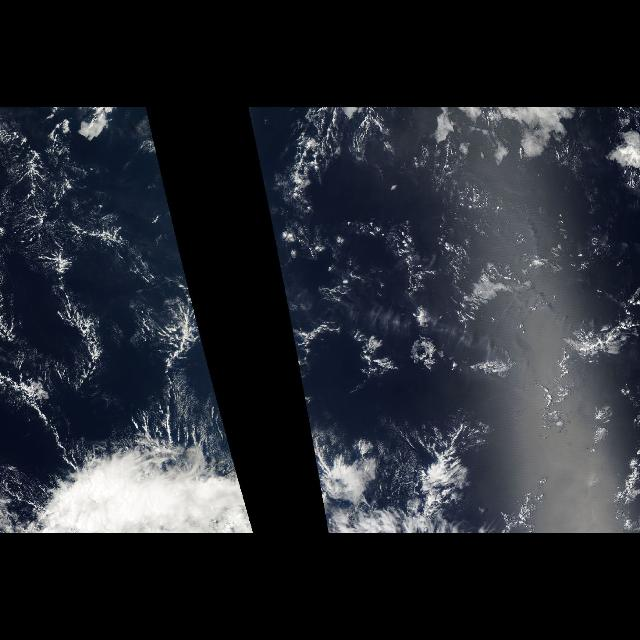Fish: (2, 156, 225, 440)
